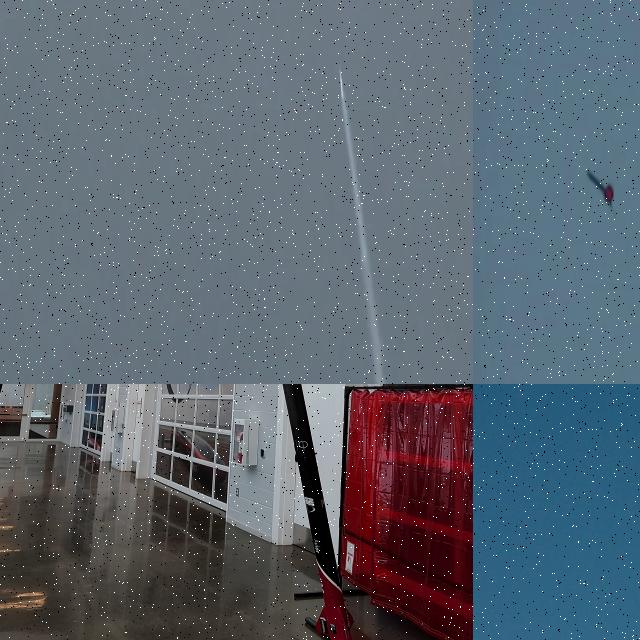Rocket: (282, 384, 354, 640), (586, 169, 614, 203), (339, 69, 344, 91)
